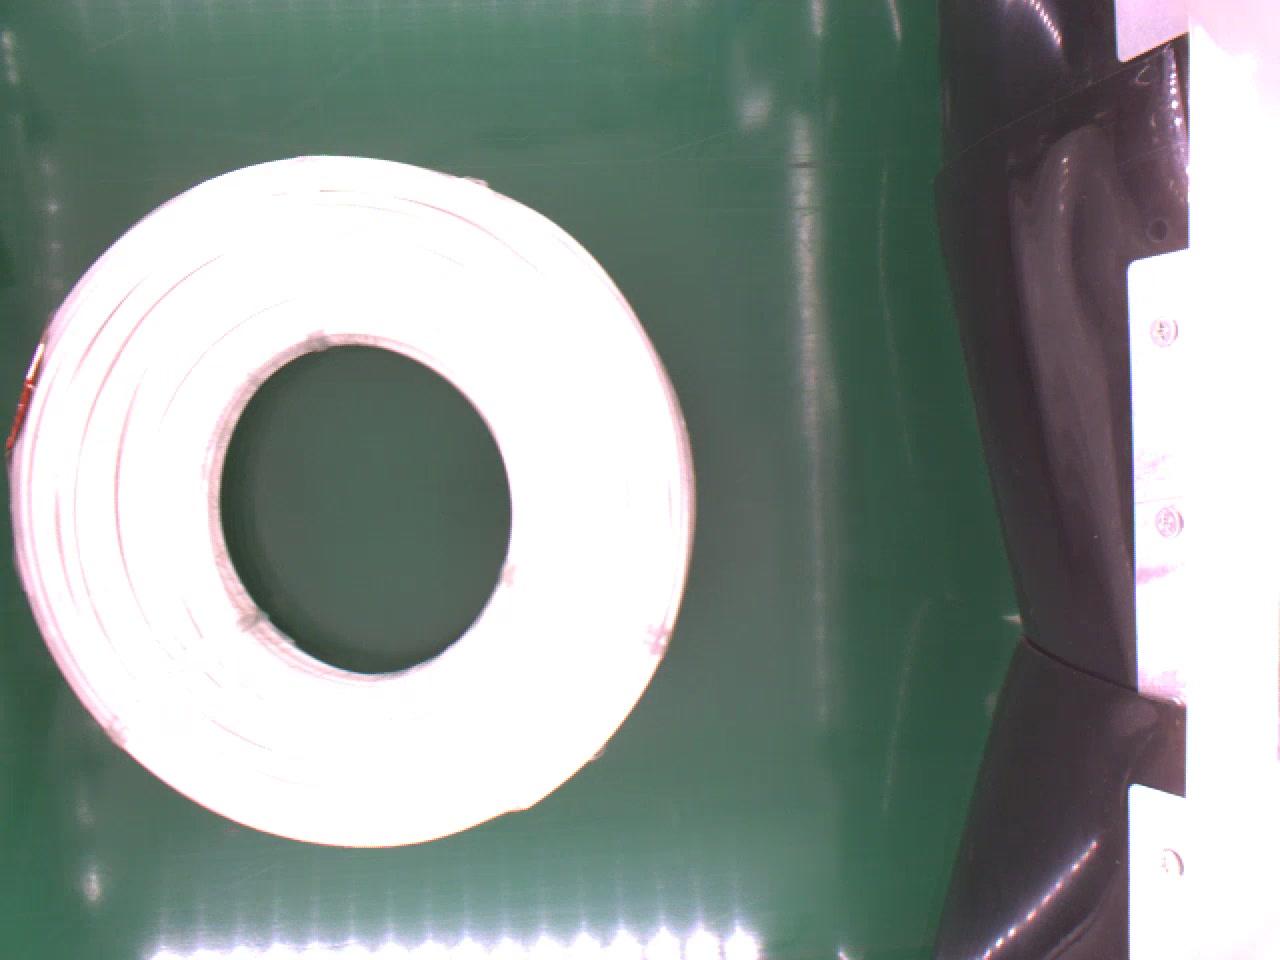white: (6, 149, 700, 845)
